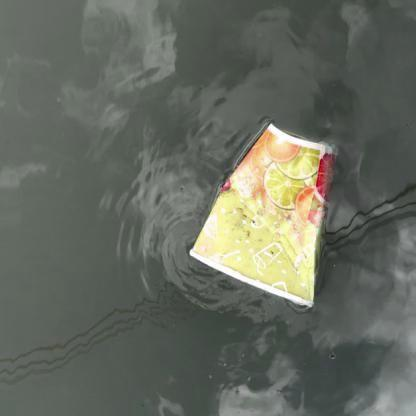Plastic: (179, 118, 348, 310)
